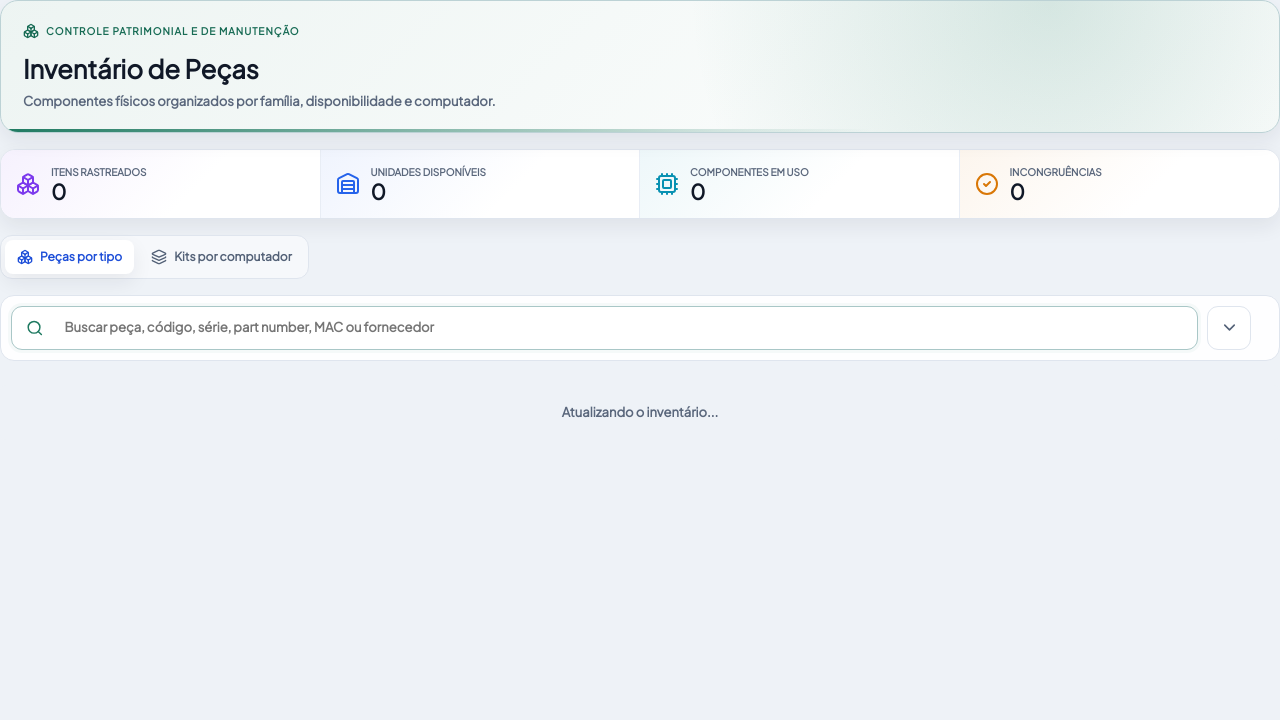
PartsInventoryPage › replica abas, grupos e segmentos do inventário nos kits
This screenshot has width=1280, height=720.
Click the button "Kits por computador". click: (221, 257)
box: [139,240,304,274]
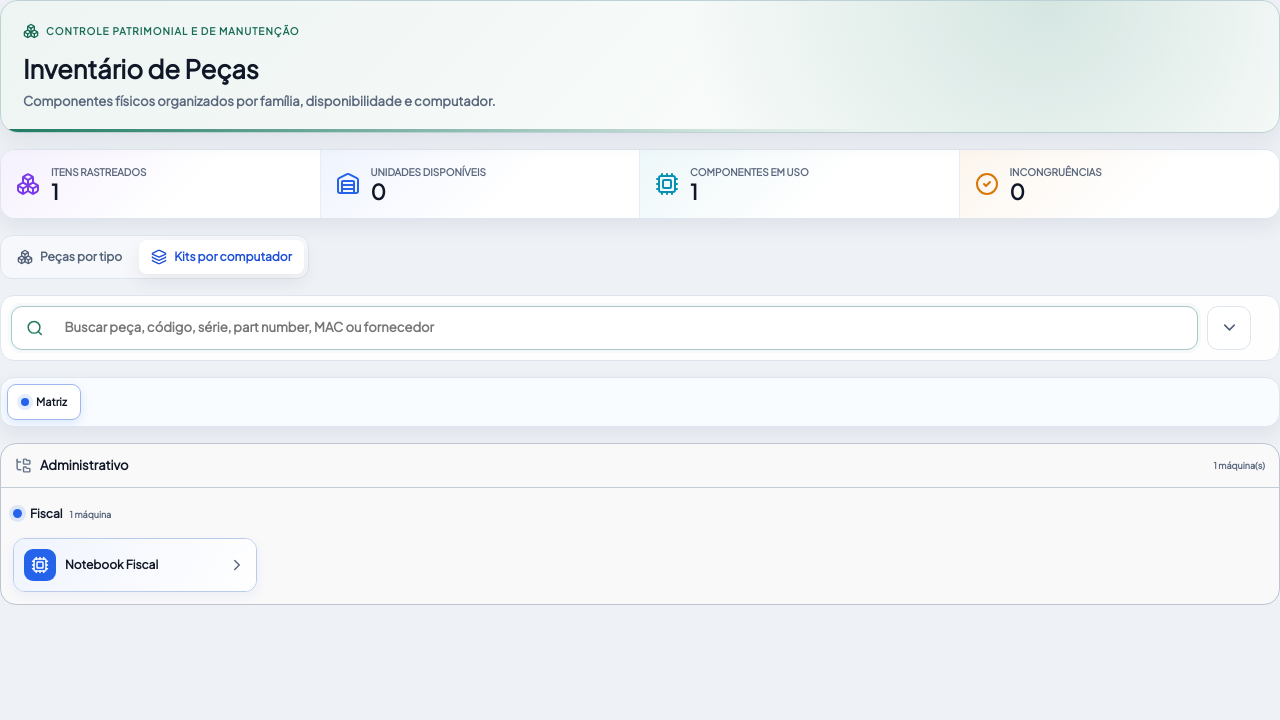
Now the button "Matriz" is shown, box [7,384,81,420]
Now the text "Administrativo" is shown, box [40,456,129,475]
Now the text "Fiscal" is shown, box [30,505,62,523]
Click the button "Notebook Fiscal". click: (135, 565)
box: [14,539,256,591]
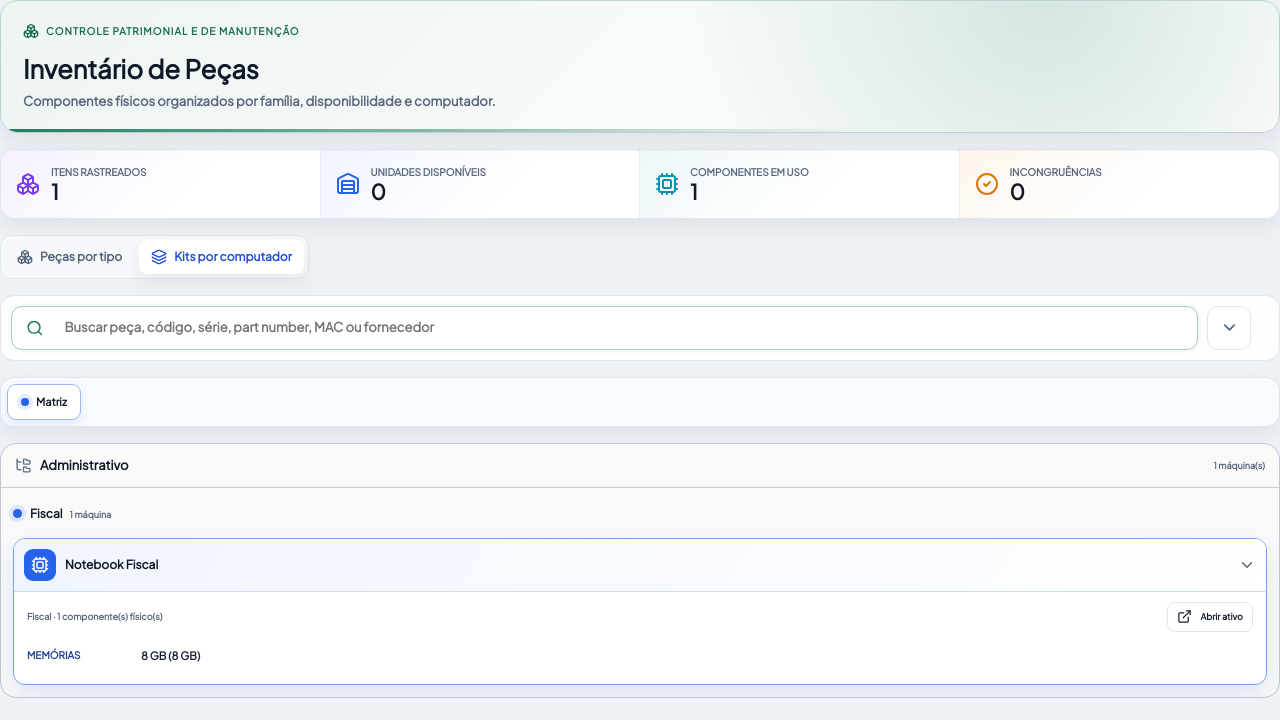
Now the text "8 GB (8 GB)" is shown, box [141,649,200,662]
